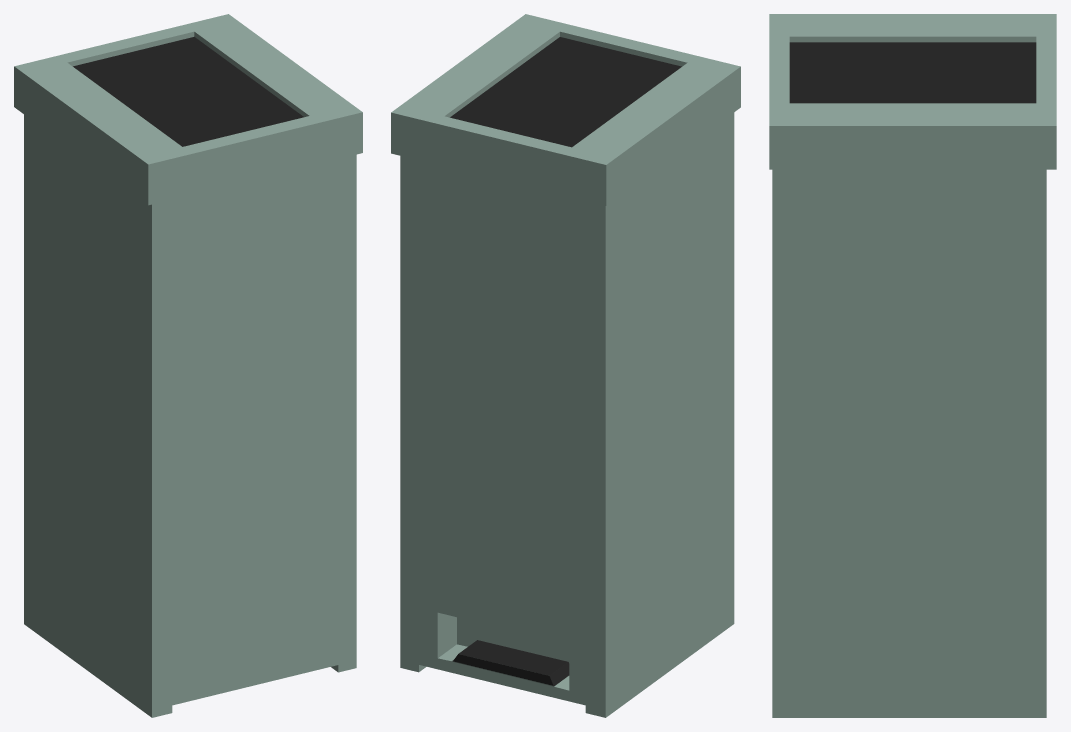
File: Lixeira_MESH.fbx
3 renders of one model, left to right at view 1: azimuth 30°, elevation 25°; view 2: azimuth 150°, elevation 25°; view 3: azimuth 270°, elevation 25°, orthographic. The views are drawn at different scales.
Visible parts, largest first — view 1: Lixo; view 2: Lixo; view 3: Lixo.
Part boxes in pixels (left/top/right/bottom): Lixo: left=14, top=14, right=362, bottom=717; Lixo: left=391, top=14, right=740, bottom=717; Lixo: left=769, top=14, right=1056, bottom=717.
Bounding box in the file's own units: 2.61 × 6.47 × 2.83.
1 material, 1 textured.
